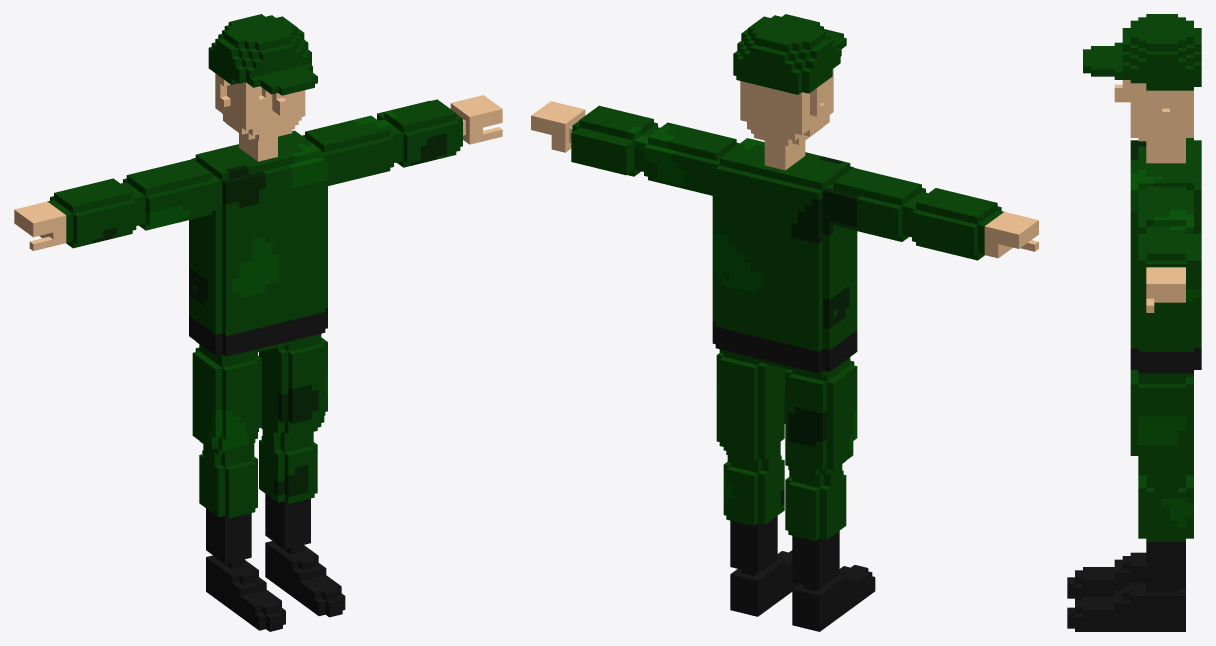
File: soldier.obj
3 views of the same model, side by side, from view 1: azimuth 30°, elevation 25°; view 2: azimuth 150°, elevation 25°; view 3: azimuth 270°, elevation 25° (orthographic). The views are drawn at different scales.
Visible parts, largest first — view 1: soldier; view 2: soldier; view 3: soldier.
Part boxes in pixels (<box>): soldier: <box>14,14,502,631</box>; soldier: <box>531,14,1038,631</box>; soldier: <box>1067,14,1201,631</box>.
Size of the model in its own units: 71 by 81 by 17.
1 material, 1 textured.
